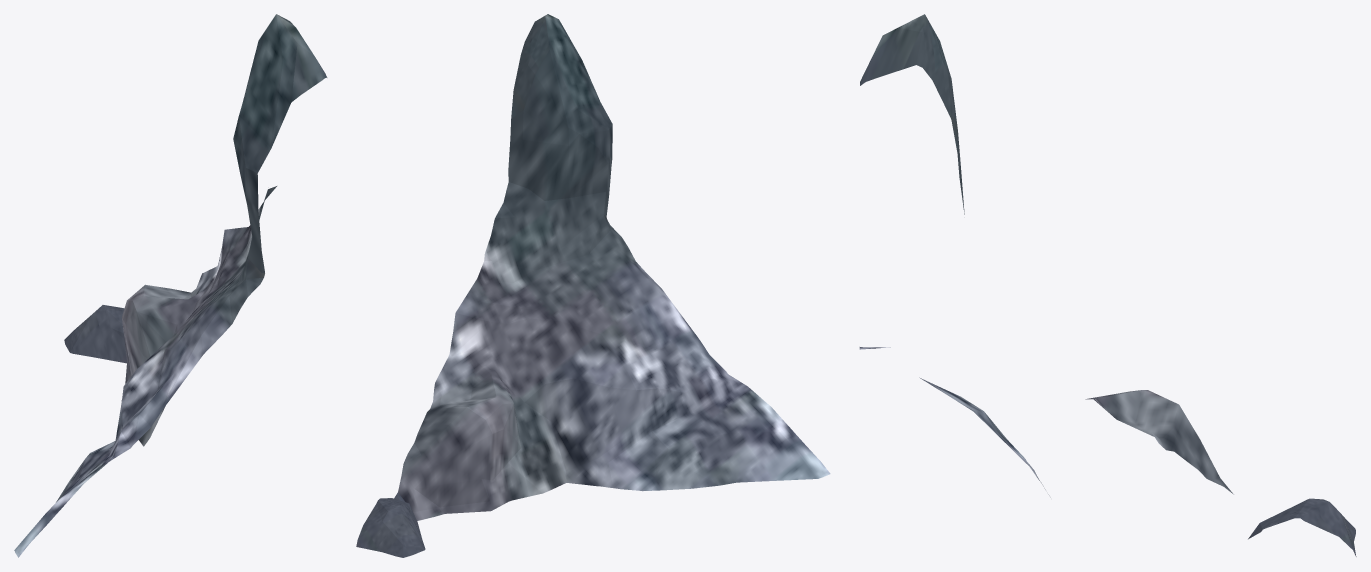
The model's file is Tile_+009_+007_L19_00270.glb.
The picture shows the model from 3 angles, left to right: view 1: azimuth 30°, elevation 25°; view 2: azimuth 150°, elevation 25°; view 3: azimuth 270°, elevation 25°; orthographic projection. The views are drawn at different scales.
Parts seen in each view (by area): view 1: rtc; view 2: rtc; view 3: rtc.
Part boxes in pixels (x1,y1,x2,y2): rtc: [14, 14, 327, 557]; rtc: [356, 14, 830, 557]; rtc: [859, 14, 1356, 556].
Bounding box in the file's own units: 13.5 × 18.9 × 16.05.
1 material, 1 textured.
